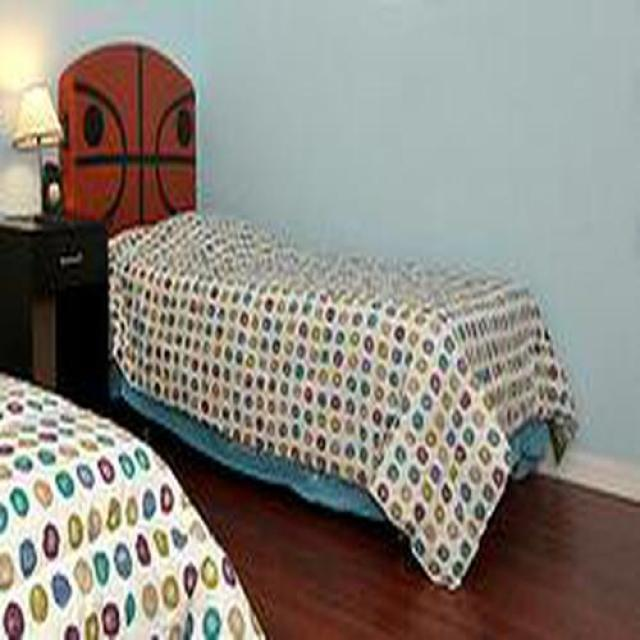bed: (54, 38, 585, 594)
